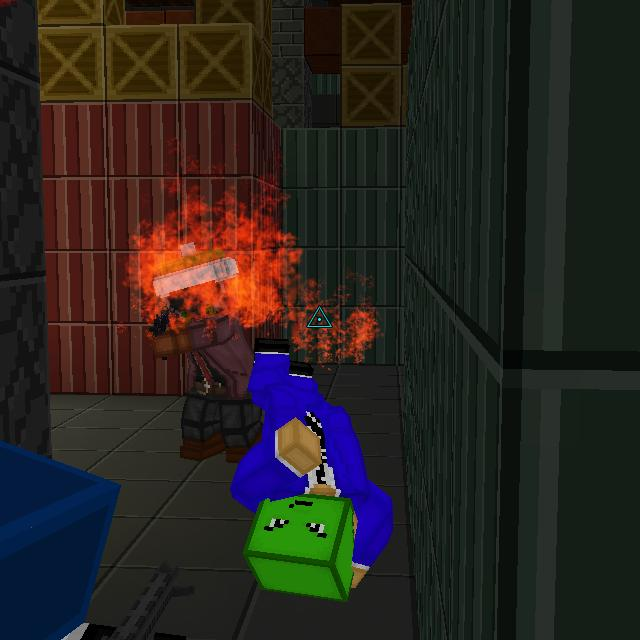enemy: (144, 239, 276, 463)
